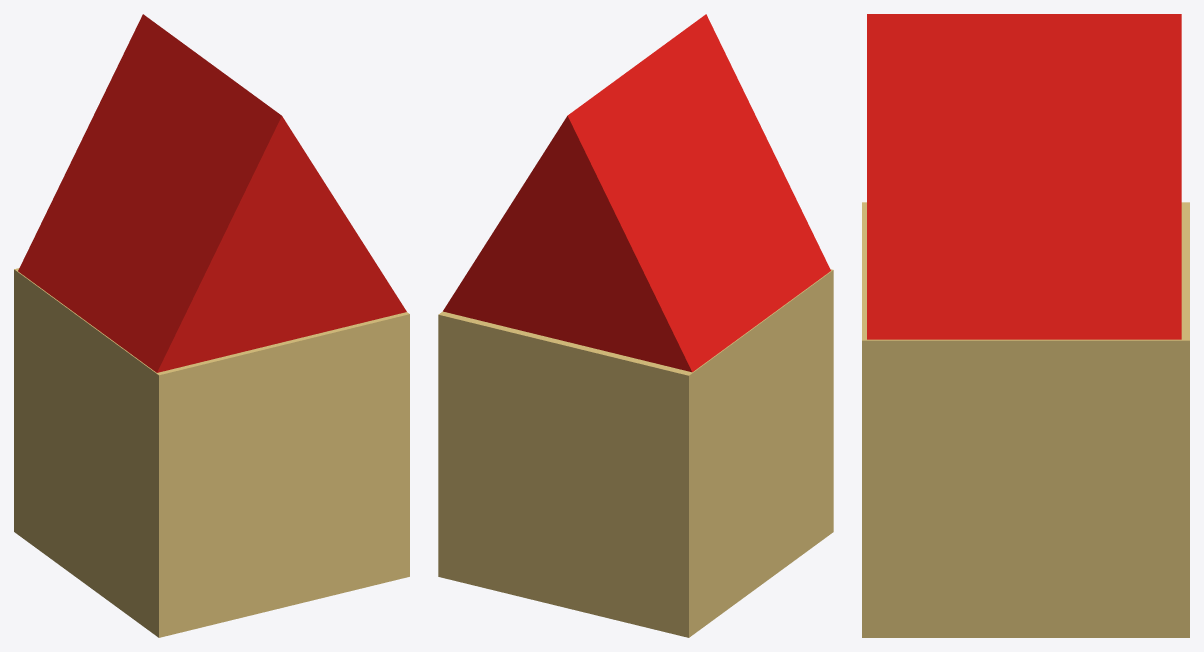
Rendered from house.glb.
The picture shows the model from 3 angles, left to right: view 1: azimuth 30°, elevation 25°; view 2: azimuth 150°, elevation 25°; view 3: azimuth 270°, elevation 25°; orthographic projection. The views are drawn at different scales.
Visible parts, largest first — view 1: house, roof; view 2: house, roof; view 3: roof, house.
Boxes of the visible parts, box(x1,y1,x2,y2) form: house: box(14, 268, 409, 637); roof: box(18, 14, 406, 372); house: box(438, 269, 833, 637); roof: box(443, 14, 830, 372); roof: box(867, 14, 1181, 339); house: box(862, 202, 1189, 637).
Size of what is drawn, in the model's own units: 2 by 3.73 by 2.
